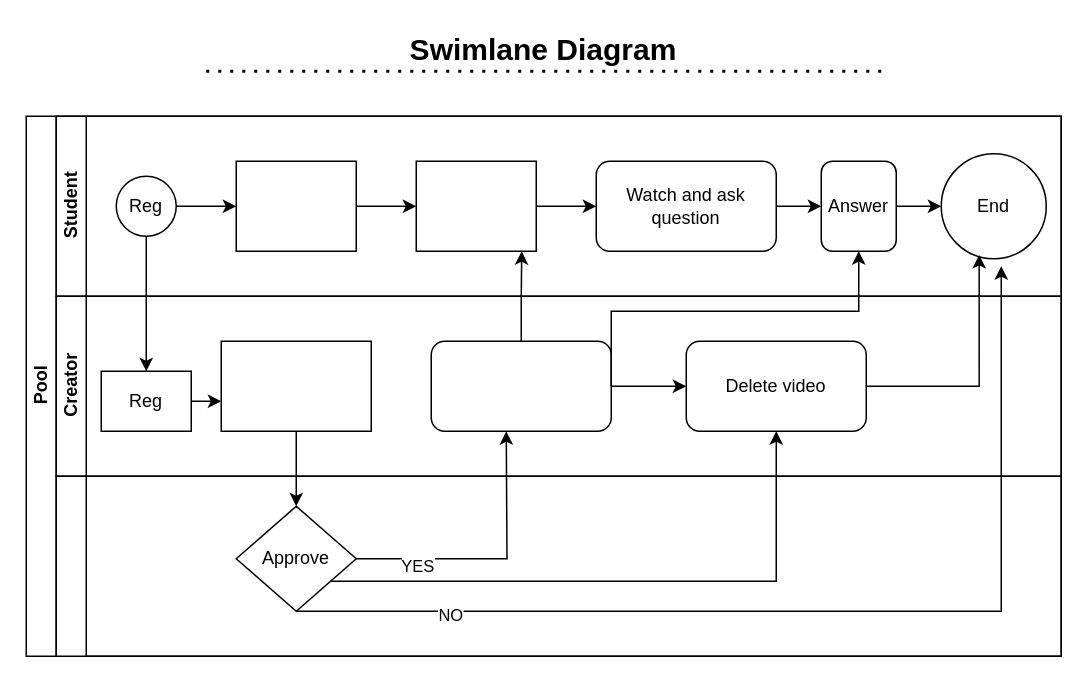
This 1088x683 diagram has some shape labels left out. Here are the shapes that lost their labels. From the top down, the box of each, then its label:
(235, 160, 356, 251): Select course
(415, 160, 536, 251): Select video
(220, 340, 371, 431): Create Course
(430, 340, 611, 431): Upload video
(55, 475, 1061, 656): Admin
